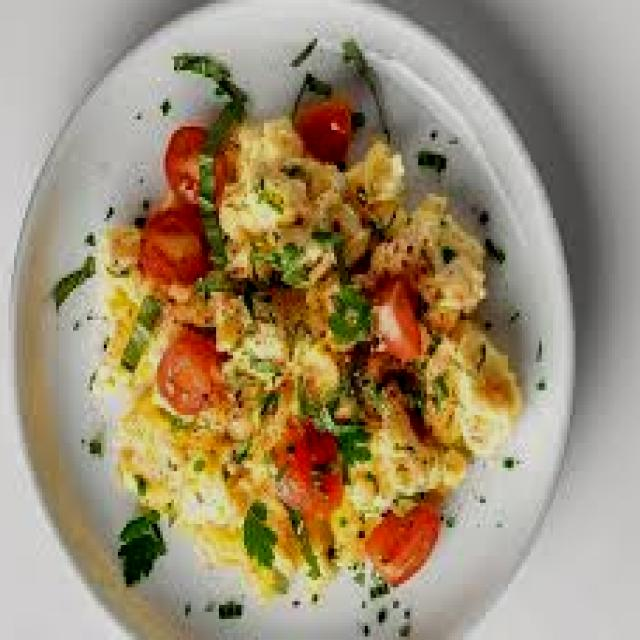telur_orak_arik: (85, 139, 512, 590)
wortel: (152, 322, 232, 434), (129, 202, 221, 298), (359, 498, 454, 590), (273, 423, 348, 519), (368, 282, 430, 374)
